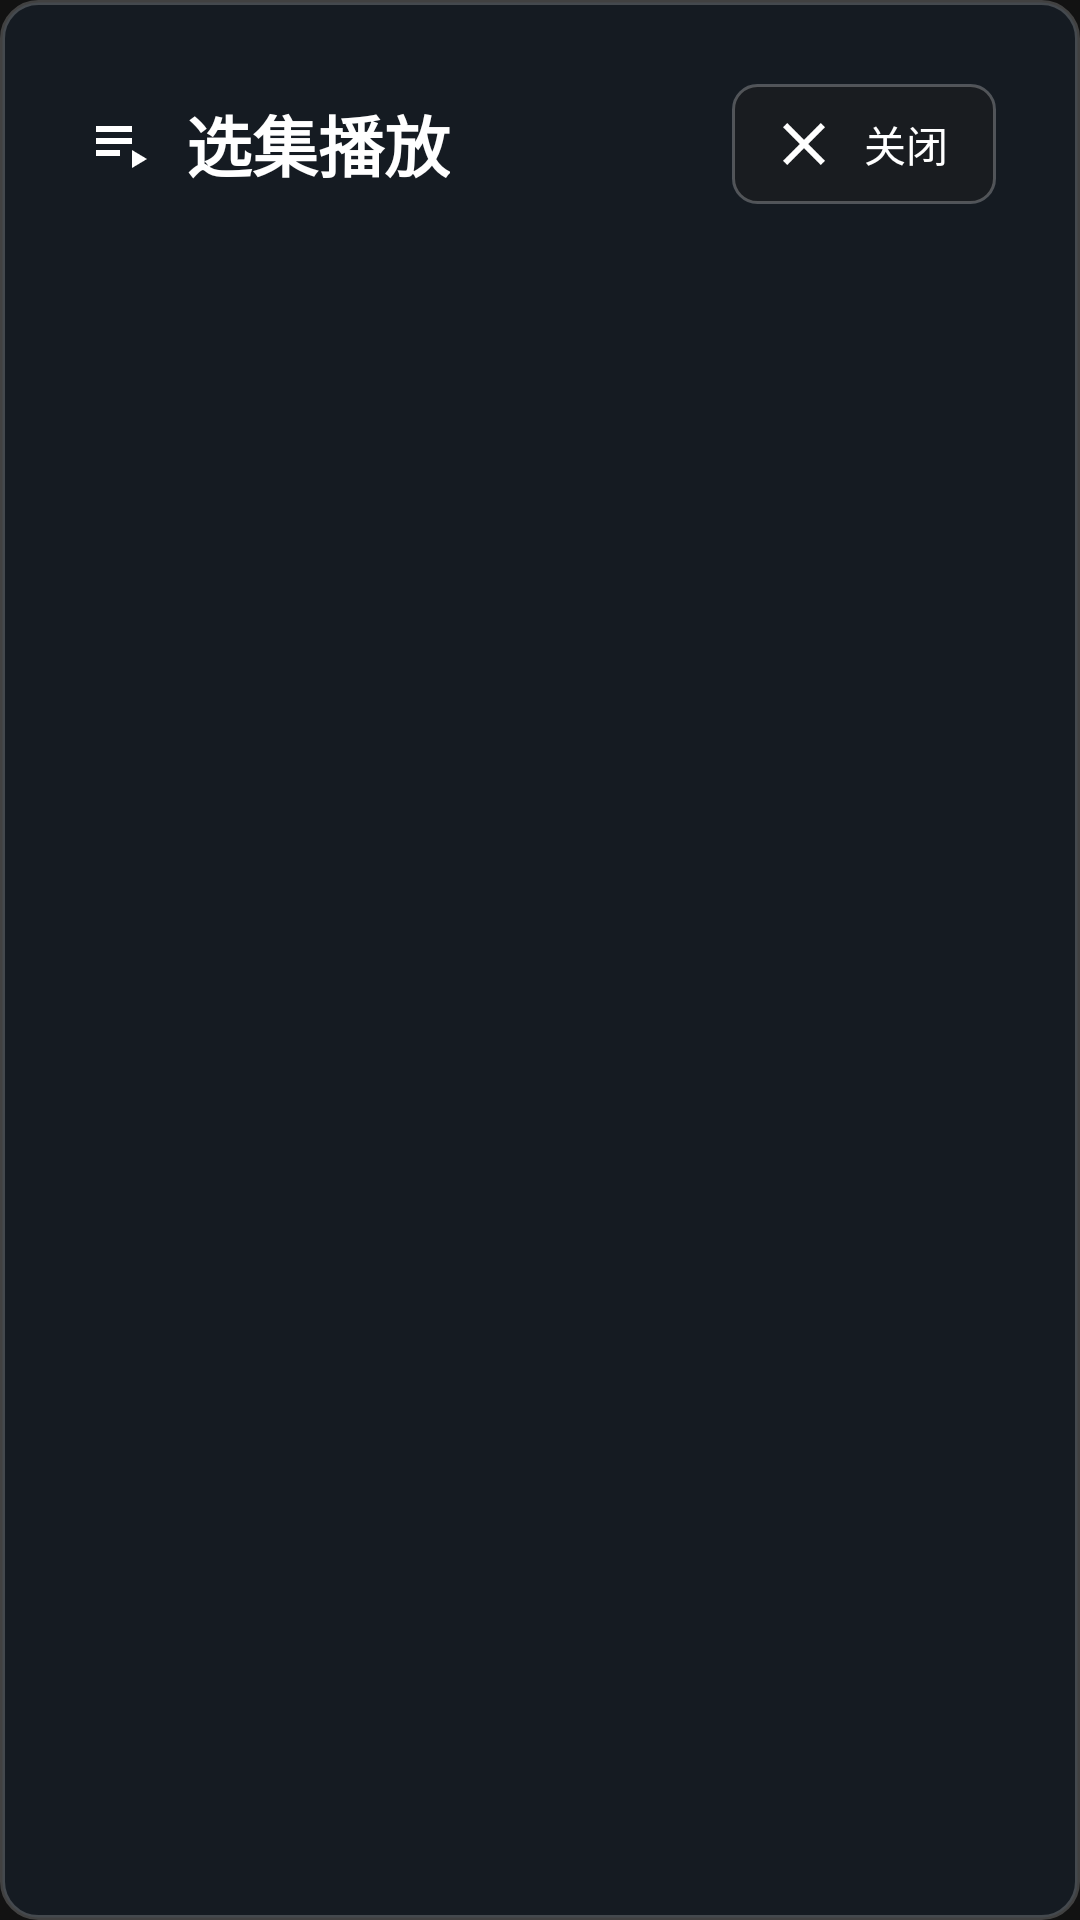

Named icons in this screenshot (1080*1920) and their centers, (x=x, y=y):
playlist: (x=121, y=147)
